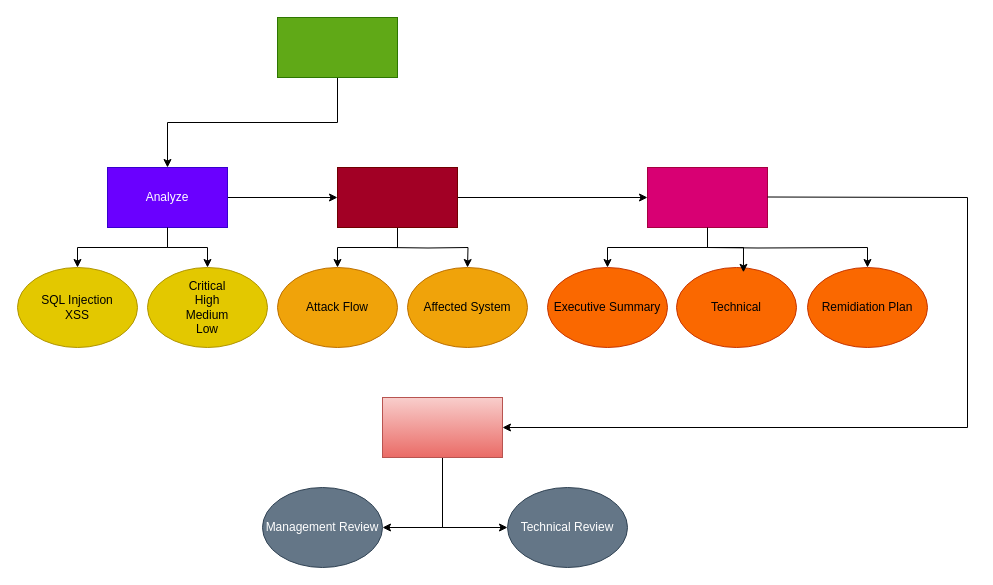
The diagram is 993 pixels wide and 585 high, and some of its shapes have lost their labels. The shapes that lost their labels are listed below. From the top down, each one's centre as x and y in pixels, then its label:
At [337,47]: "Vulnerability Scan".
At [397,197]: "Visualize".
At [707,197]: "Create Report".
At [442,427]: "Stakeholder Review".
